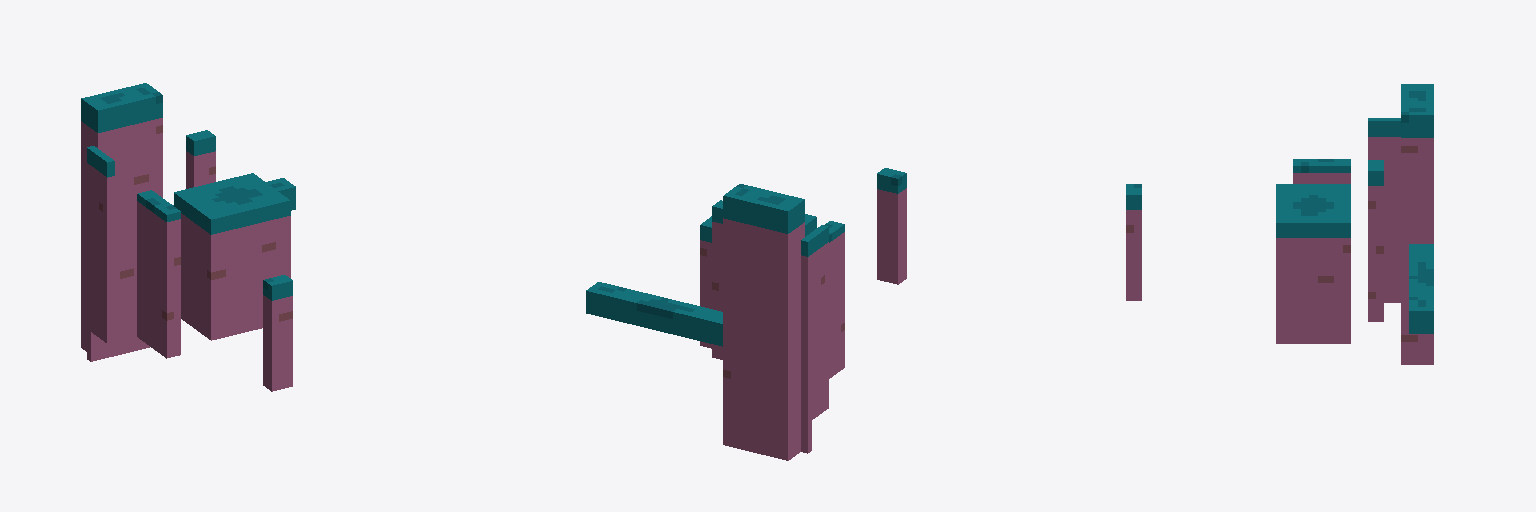
3 renders of one model, left to right at view 1: azimuth 30°, elevation 25°; view 2: azimuth 150°, elevation 25°; view 3: azimuth 270°, elevation 25°, orthographic.
Visible parts, largest first — view 1: TestMapNoPlatforms; view 2: TestMapNoPlatforms; view 3: TestMapNoPlatforms.
Boxes of the visible parts, x1,y1,x2,y2 form: TestMapNoPlatforms: [81, 83, 295, 391]; TestMapNoPlatforms: [586, 168, 906, 460]; TestMapNoPlatforms: [1126, 84, 1433, 364].
Size of the model in its own units: 29 by 33 by 37.
1 materials, 1 textured.